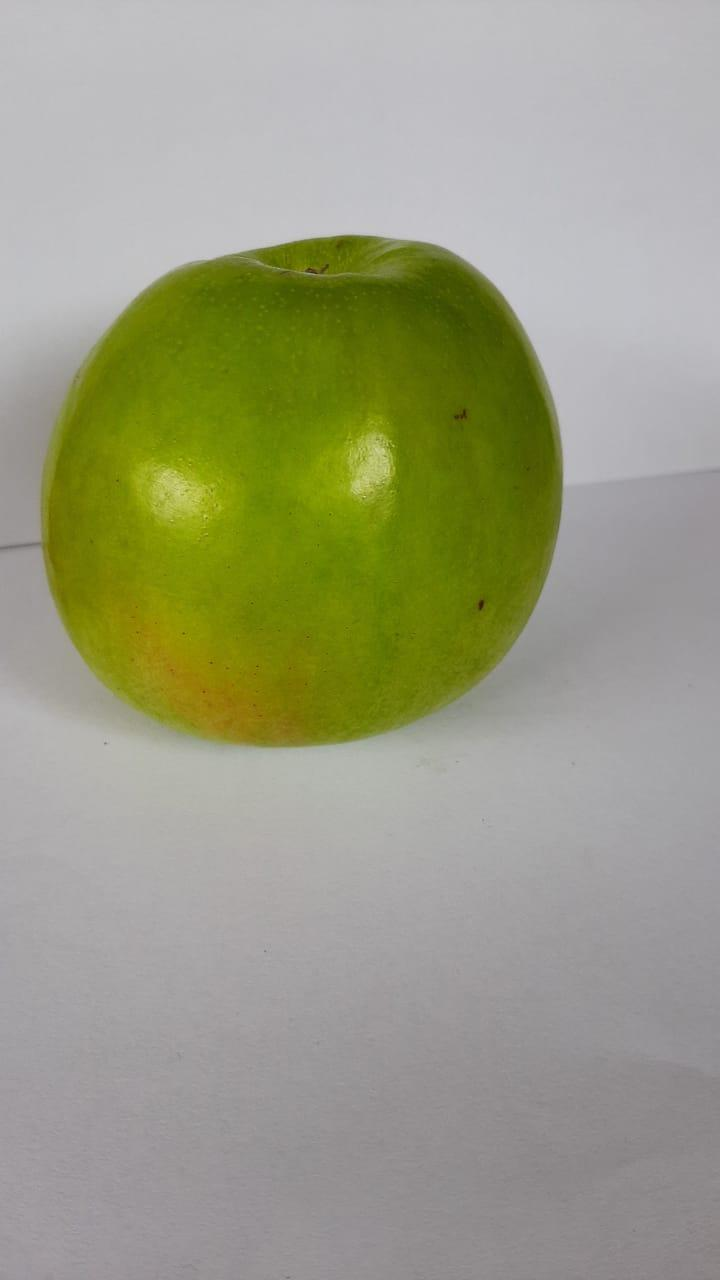fruit: (29, 217, 574, 756)
